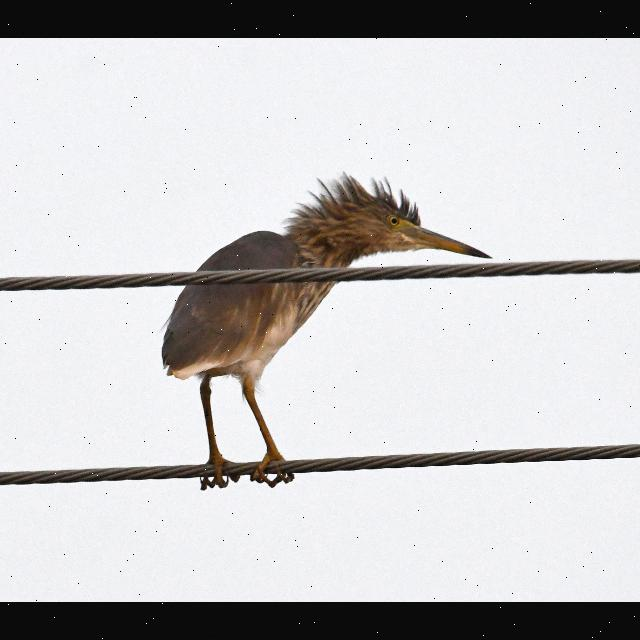heron: (147, 173, 498, 511)
